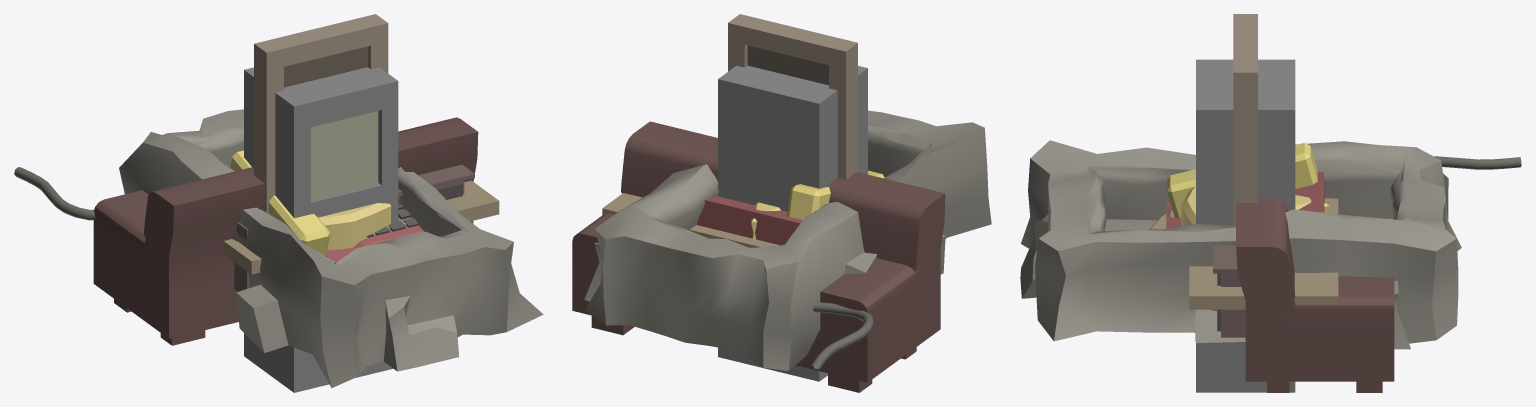
The model's file is Assetspt1.fbx.
The picture shows the model from 3 angles, left to right: view 1: azimuth 30°, elevation 25°; view 2: azimuth 150°, elevation 25°; view 3: azimuth 270°, elevation 25°; orthographic projection. The views are drawn at different scales.
Parts seen in each view (by area): view 1: RockTub, Couch, ChuteToNowhere, DoorFrame, Firdge, Cheese, CoffeeTable, Door, Phone, TelephoneWire, PhoneBase, CornCountL (+2 smaller); view 2: RockTub, Couch, ChuteToNowhere, DoorFrame, PhoneBase, Door, TelephoneWire, Phone, CoffeeTable; view 3: RockTub, Couch, ChuteToNowhere, DoorFrame, CoffeeTable, Phone, CornCountL, PhoneBase, TelephoneWire, Cheese.
Boxes of the visible parts, left/top/right/bottom form: RockTub: left=119, top=109, right=543, bottom=387; Couch: left=93, top=117, right=478, bottom=345; ChuteToNowhere: left=244, top=67, right=398, bottom=392; DoorFrame: left=254, top=14, right=388, bottom=213; Firdge: left=310, top=111, right=378, bottom=198; Cheese: left=318, top=203, right=391, bottom=250; CoffeeTable: left=223, top=180, right=499, bottom=274; Door: left=284, top=46, right=367, bottom=87; Phone: left=230, top=150, right=330, bottom=256; TelephoneWire: left=14, top=167, right=95, bottom=220; PhoneBase: left=326, top=209, right=423, bottom=262; CornCountL: left=418, top=164, right=474, bottom=193; RockTub: left=584, top=110, right=991, bottom=370; Couch: left=572, top=121, right=945, bottom=392; ChuteToNowhere: left=718, top=65, right=867, bottom=381; DoorFrame: left=728, top=14, right=857, bottom=179; PhoneBase: left=696, top=196, right=802, bottom=245; Door: left=747, top=45, right=828, bottom=85; TelephoneWire: left=812, top=302, right=873, bottom=369; Phone: left=787, top=170, right=884, bottom=219; CoffeeTable: left=602, top=193, right=778, bottom=247; RockTub: left=1020, top=140, right=1461, bottom=349; Couch: left=1236, top=198, right=1394, bottom=392; ChuteToNowhere: left=1196, top=59, right=1295, bottom=392; DoorFrame: left=1233, top=14, right=1257, bottom=225; CoffeeTable: left=1189, top=198, right=1338, bottom=311; Phone: left=1167, top=143, right=1317, bottom=218; CornCountL: left=1213, top=245, right=1245, bottom=337; PhoneBase: left=1166, top=171, right=1324, bottom=228; TelephoneWire: left=1434, top=156, right=1521, bottom=169; Cheese: left=1181, top=186, right=1329, bottom=226.
Bounding box in the file's own units: 3.71 × 3.61 × 5.05.
